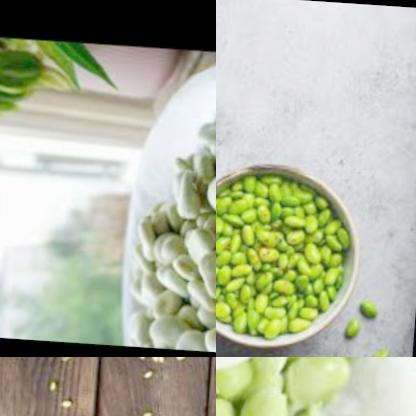beans: (216, 160, 378, 348), (133, 87, 216, 352), (216, 357, 416, 416), (367, 332, 400, 357), (360, 292, 387, 316), (346, 313, 366, 335), (141, 403, 163, 416), (140, 365, 163, 376), (51, 371, 61, 392), (63, 396, 76, 410)
